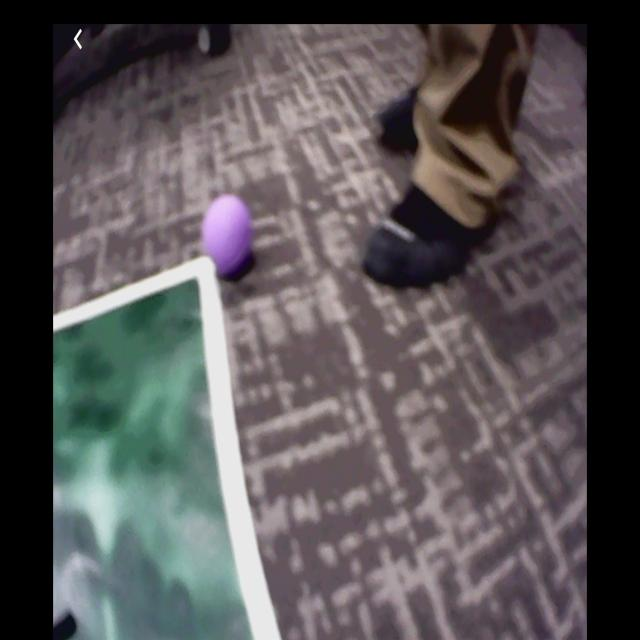ball: (203, 194, 249, 275)
